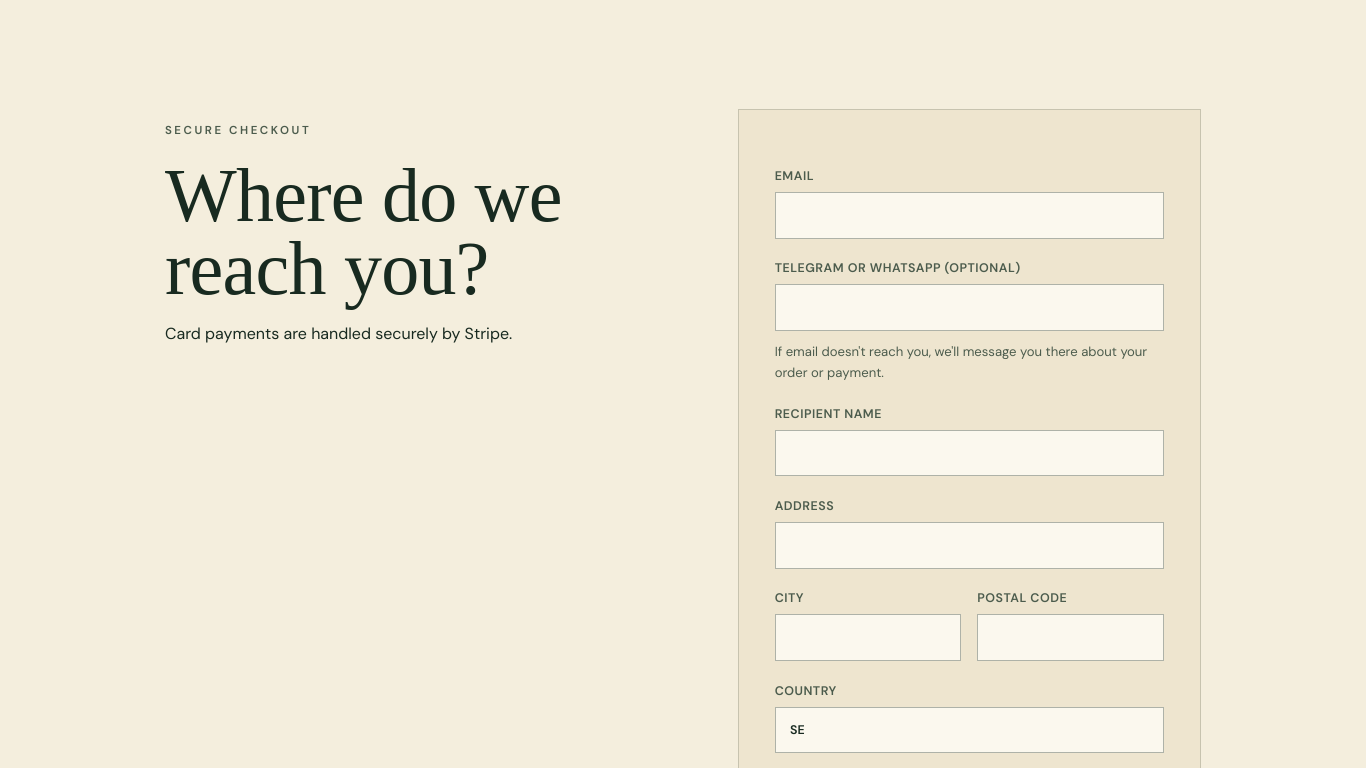
Test case: CheckoutPage › shows an error state when checkout fails (e.g. insufficient stock)
The image size is (1366, 768).
Type "shopper@example.com" into the field labelled "Email". click: (969, 215)
box: top-left (775, 192), bottom-right (1164, 239)
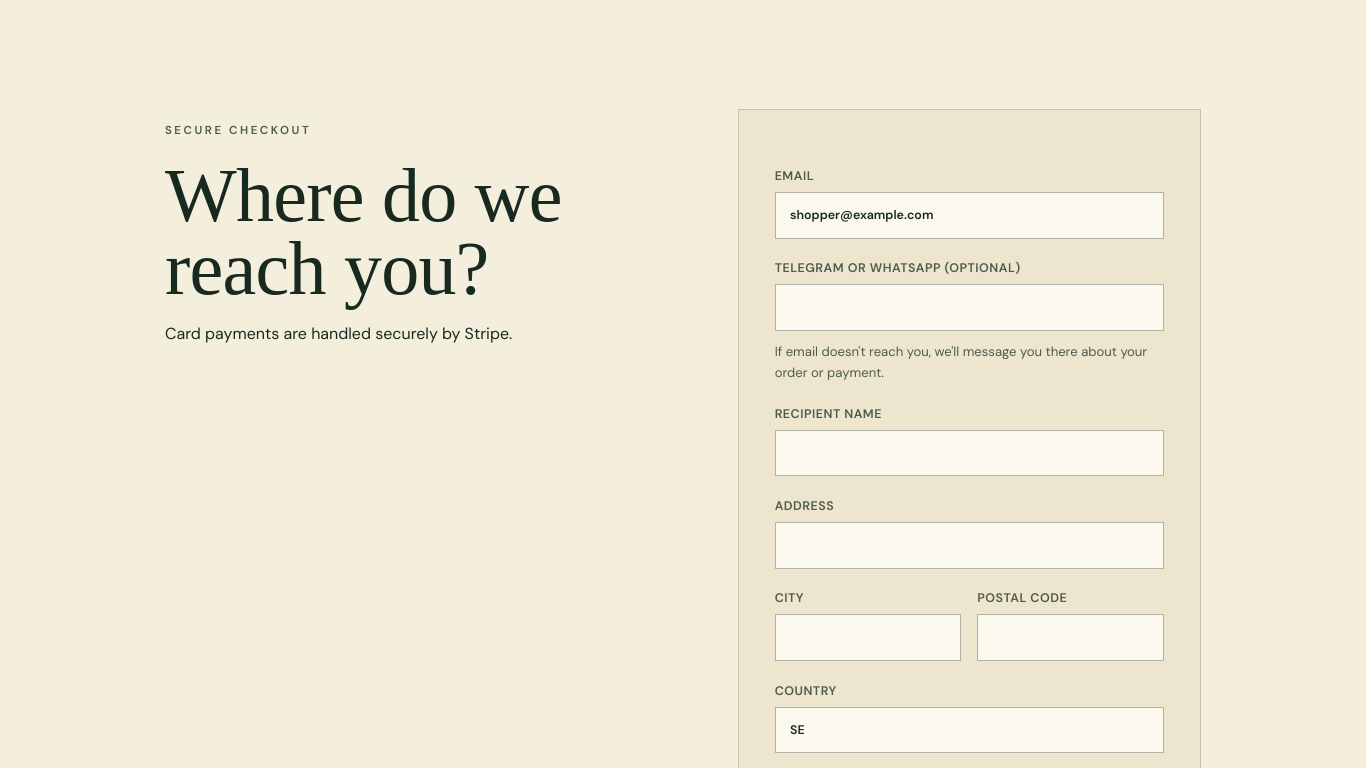
Type "Ada Lovelace" into the field labelled "Recipient name". click: (969, 453)
box: top-left (775, 430), bottom-right (1164, 476)
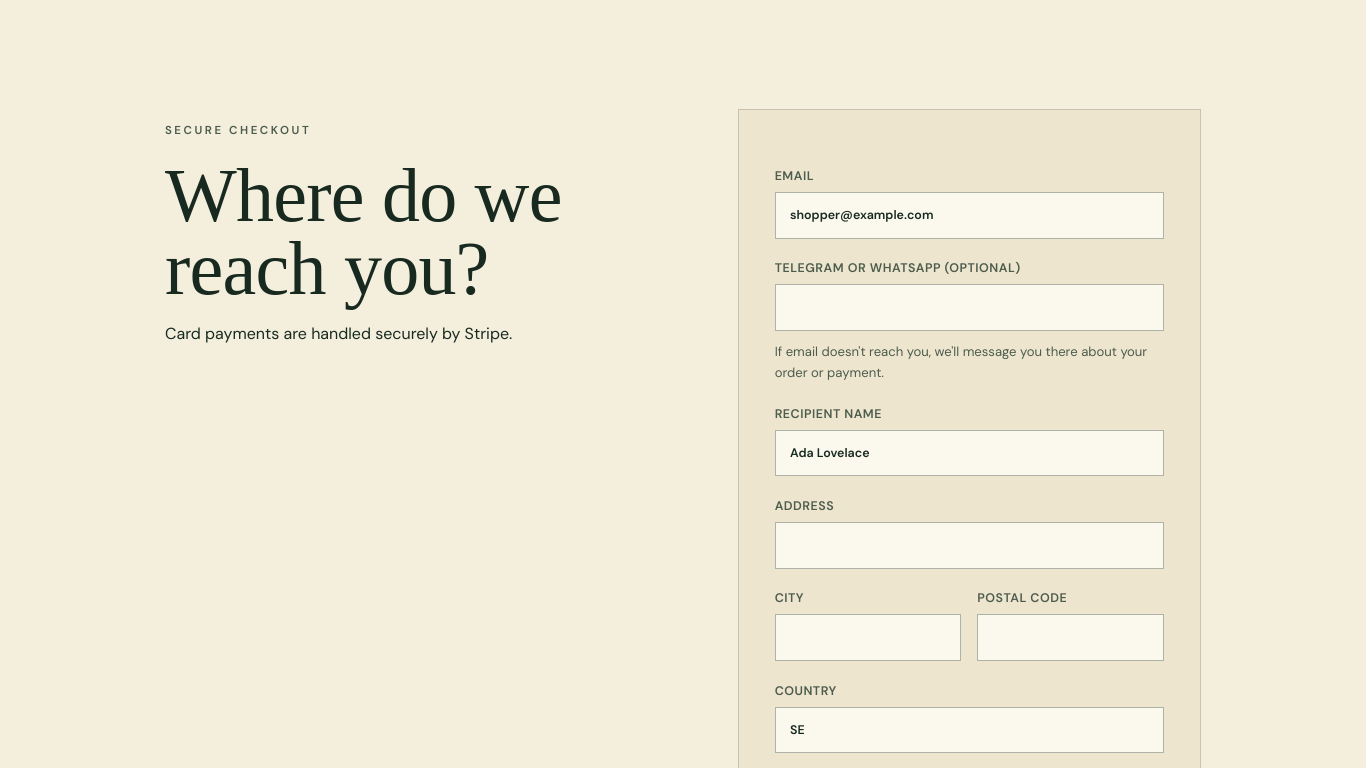
Type "1 Analytical Engine Rd" into the field labelled "Address". click: (969, 545)
box: top-left (775, 522), bottom-right (1164, 569)
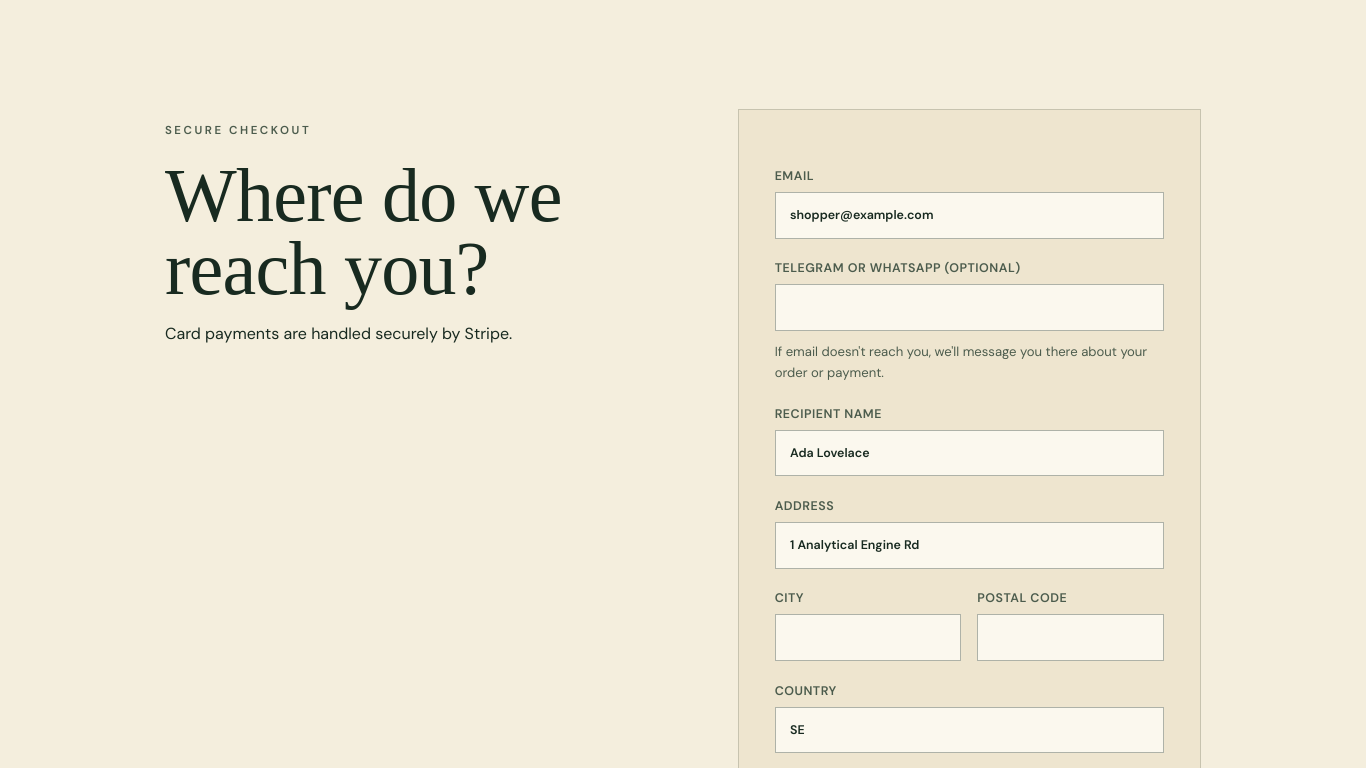
Type "Umeå" into the field labelled "City". click: (868, 638)
box: top-left (775, 614), bottom-right (961, 661)
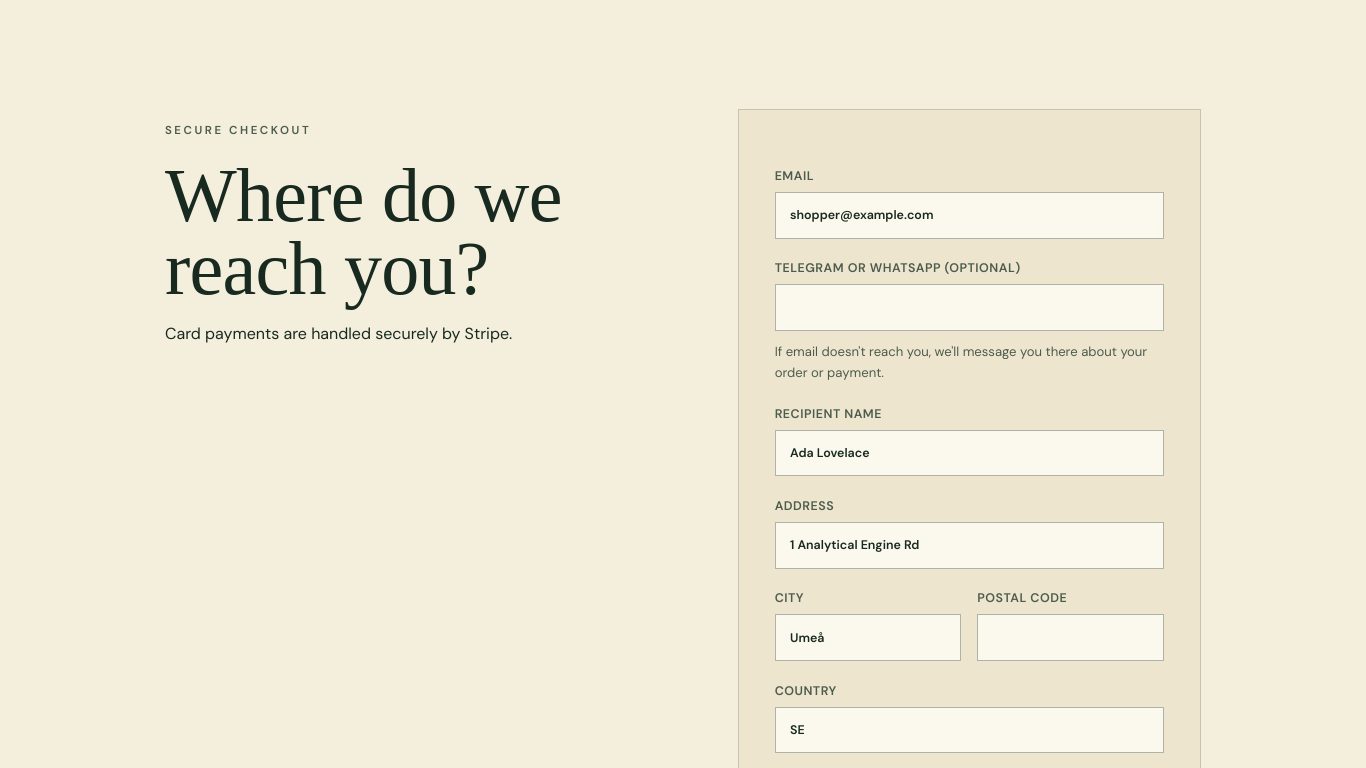
Type "90325" into the field labelled "Postal code". click: (1071, 638)
box: top-left (977, 614), bottom-right (1164, 661)
(page scrolled)
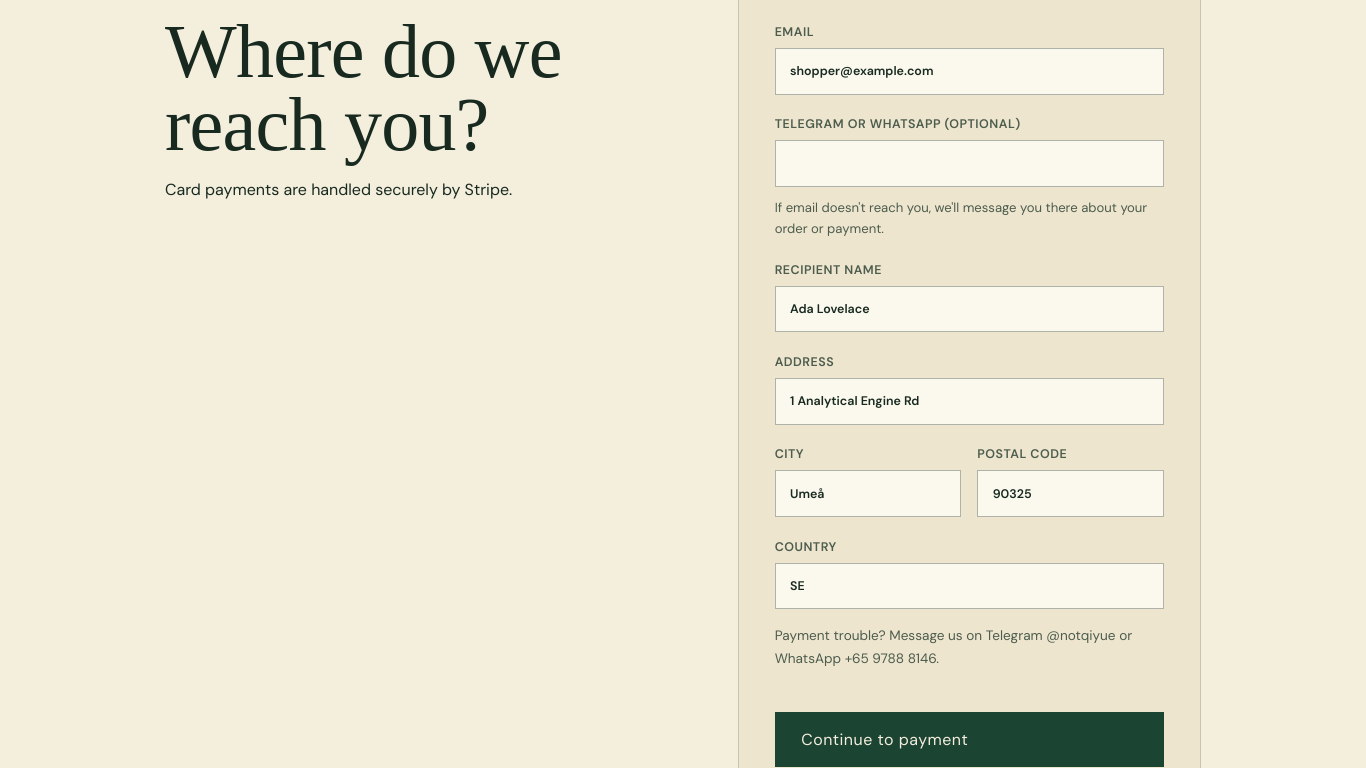
Submit the form
(page scrolled)
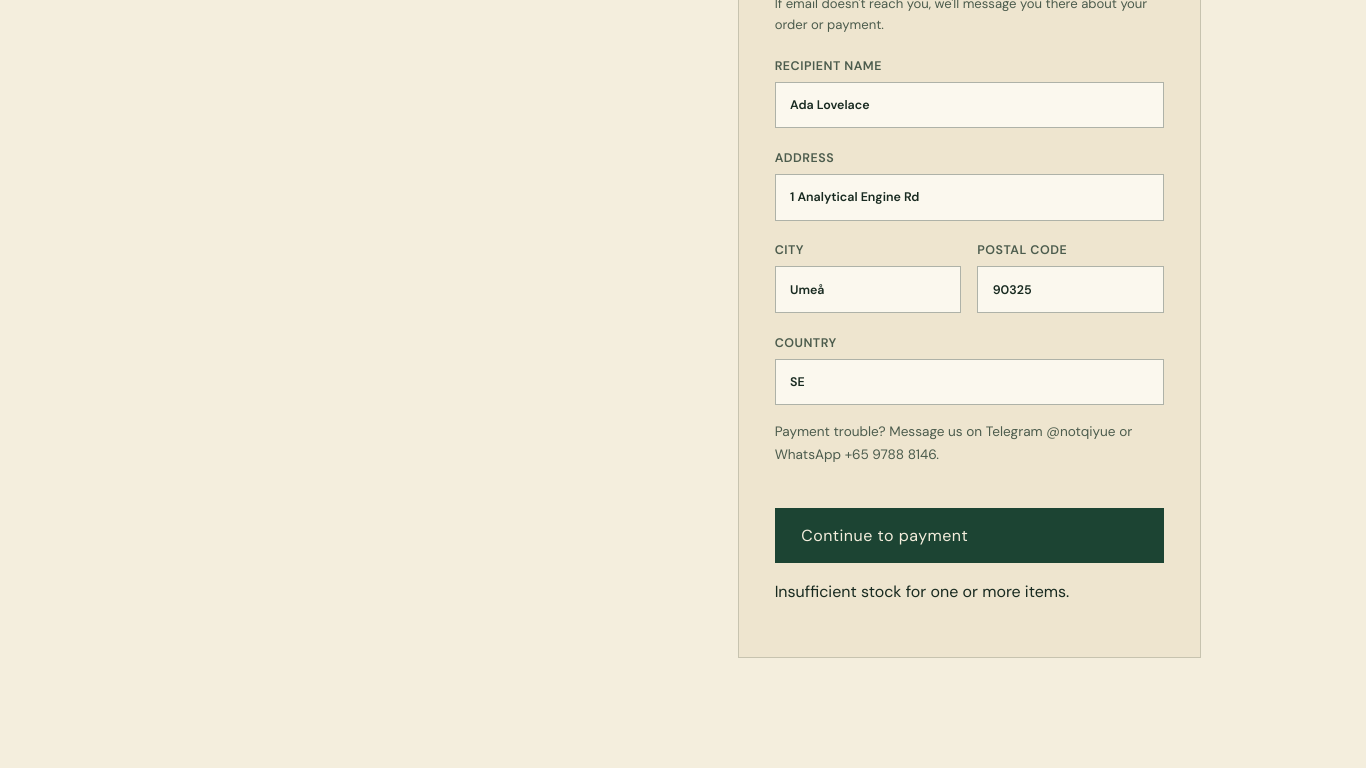
Result: the message reads "Insufficient stock for one or more items." at top-left (775, 581), bottom-right (1069, 602)
